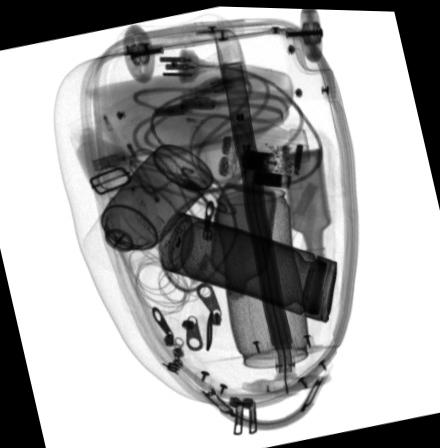Sprayer: (82, 142, 213, 272)
